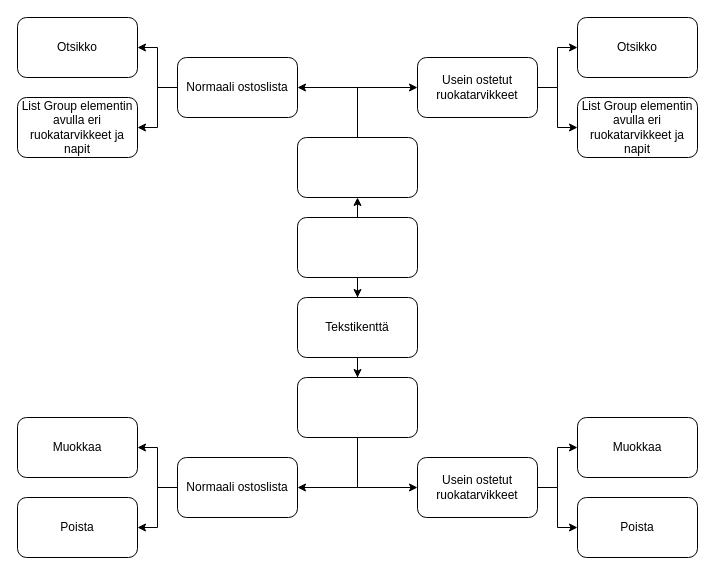
The diagram is 715 pixels wide and 575 high, and some of its shapes have lost their labels. The shapes that lost their labels are listed below. From the top down, each one's box as (x1, y1, x2, y2) in pixels, then its label:
(296, 136, 418, 198): Kauppalistat
(296, 216, 418, 278): Kauppalistasovellus
(296, 376, 418, 438): Lisää
